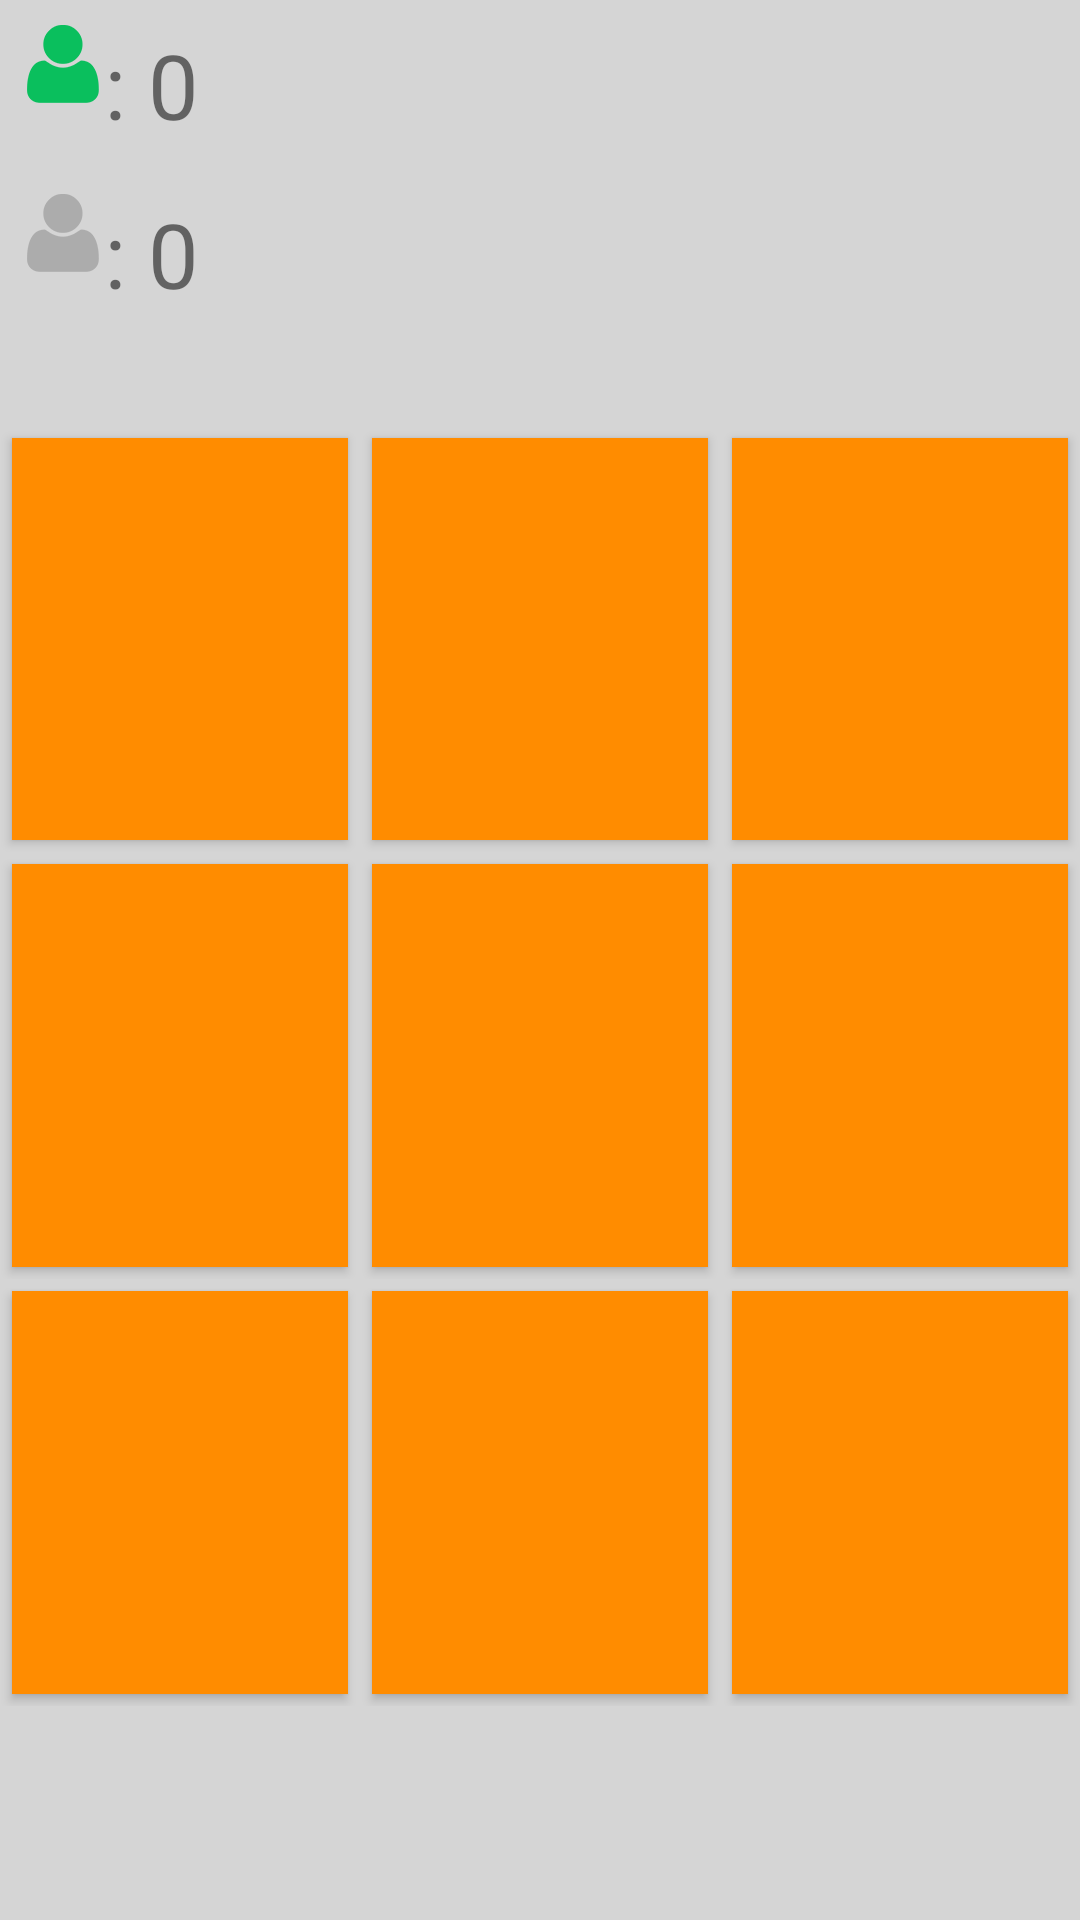

Locate icon controls on the screen. Image size 1080px×1920px, boxes as BBox(x1, y1, x2, y2).
profile: BBox(27, 25, 99, 103), BBox(27, 194, 99, 272)
